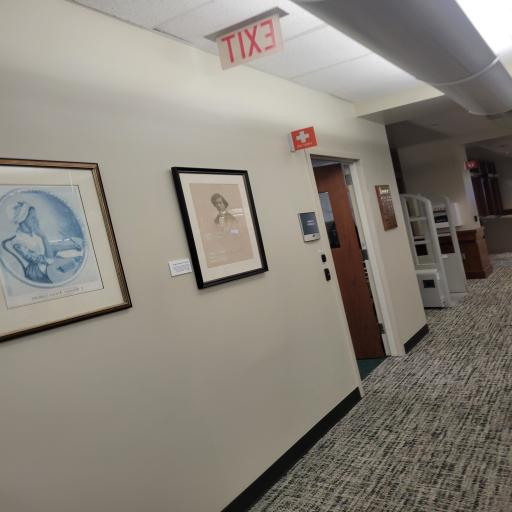exit sign: (180, 0, 290, 74)
poster: (0, 158, 133, 339), (168, 164, 266, 296)
